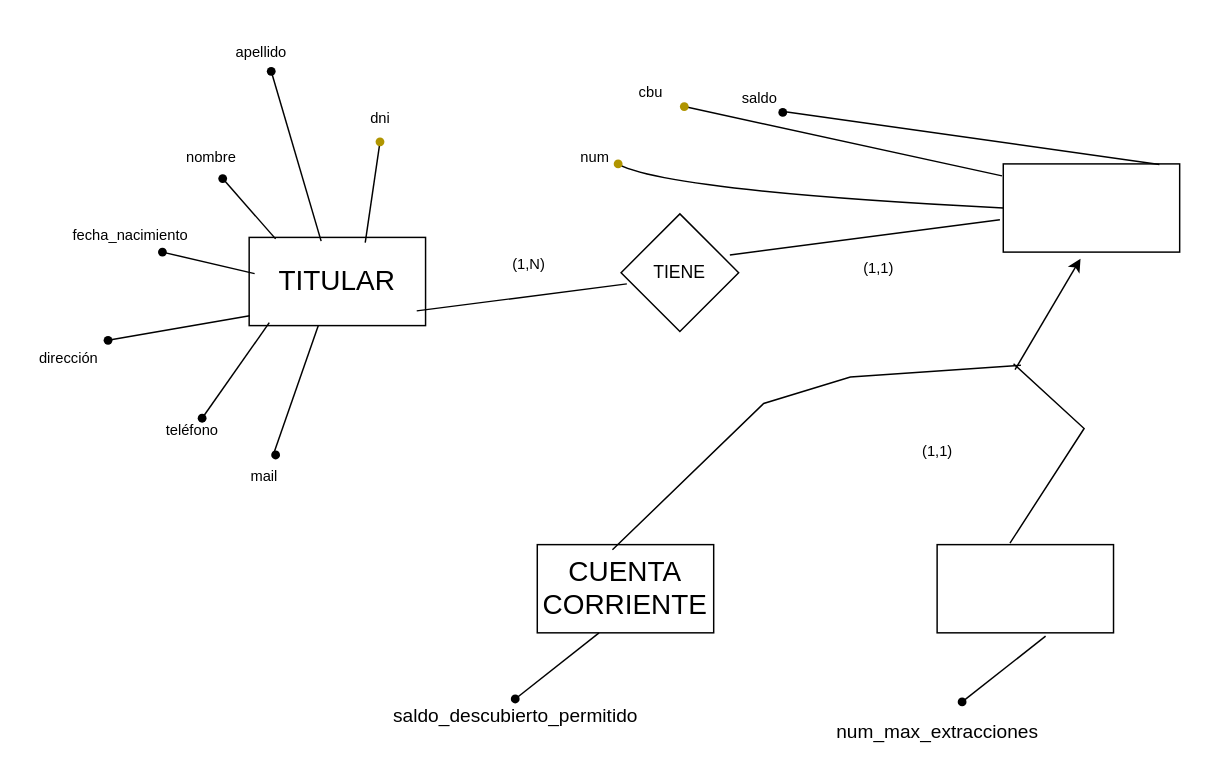
The diagram is 1205 pixels wide and 776 high, and some of its shapes have lost their labels. The shapes that lost their labels are listed below. From the top down, each one's centre as x and y in pixels, then its label:
At (1091,207): "CUENTA BANCARIA".
At (1025,588): "CAJA DE AHORRO".
